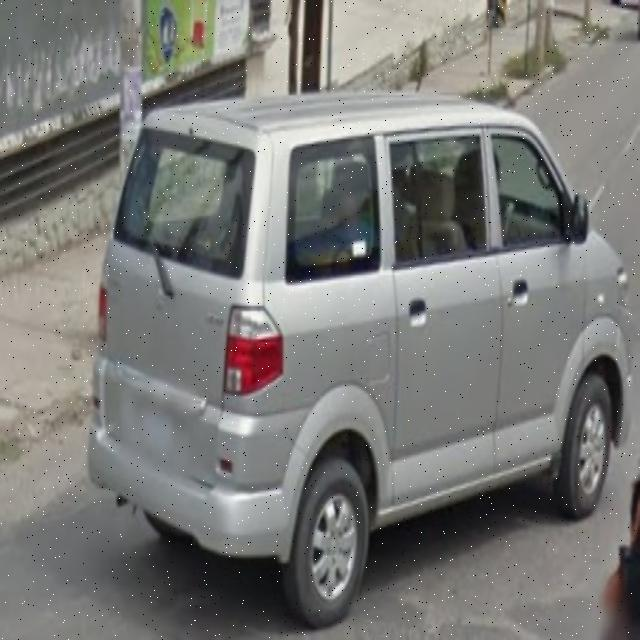cars: (86, 89, 635, 626)
